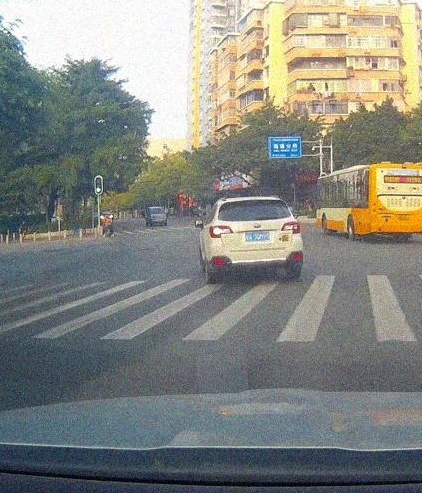L_light: (208, 225, 233, 238)
R_light: (280, 221, 301, 234)
T_light: (248, 200, 260, 203)
day-left: (207, 196, 303, 283)
